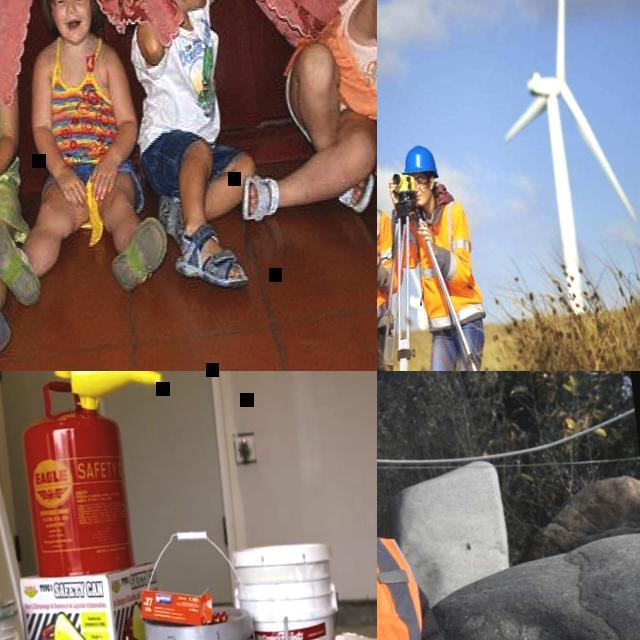Weapon: (10, 5, 173, 312), (391, 126, 524, 376)
objects: (402, 132, 470, 204)
